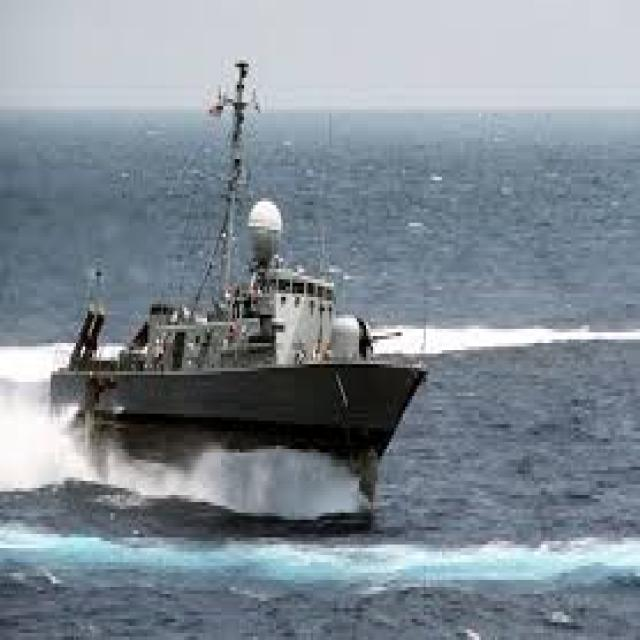navalvessels: (56, 19, 439, 518)
